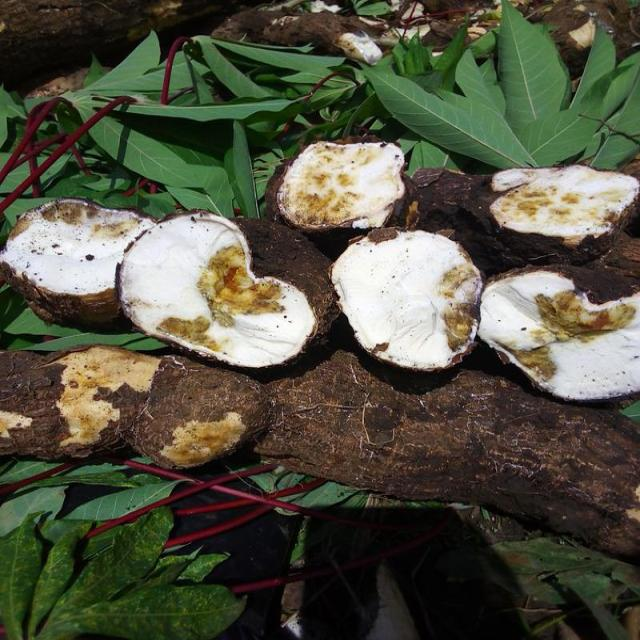cassava leaf: (363, 0, 639, 172), (117, 208, 325, 369), (330, 224, 484, 372)
